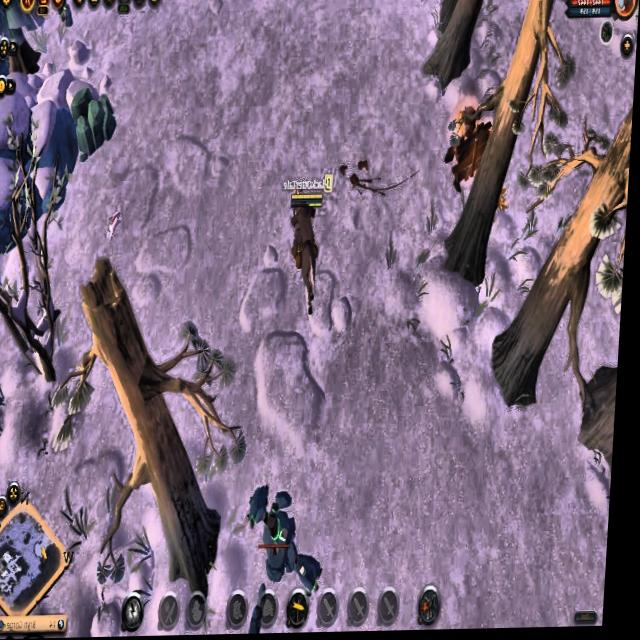sandstone: (70, 81, 119, 158)
